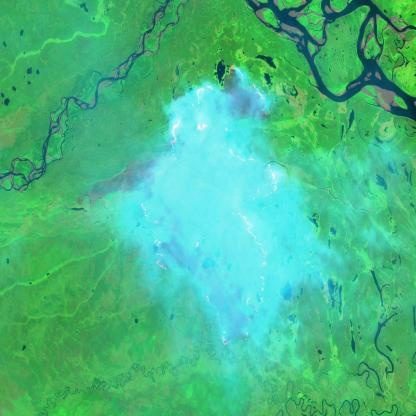fire: (94, 57, 322, 354)
